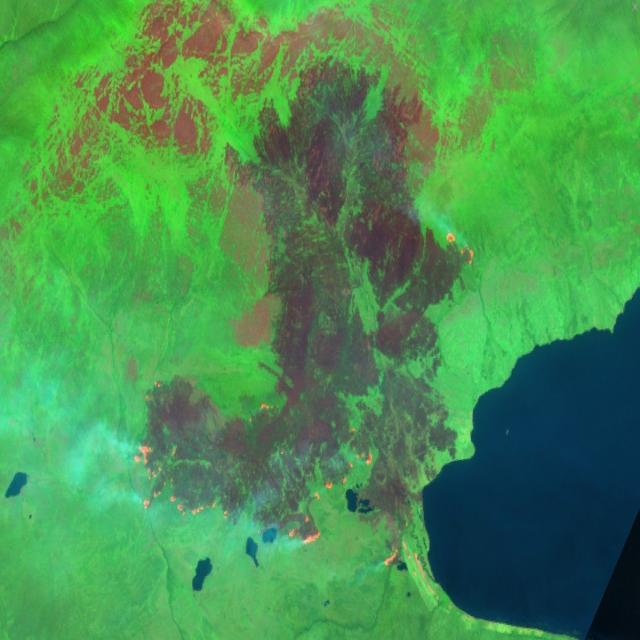fire: (127, 424, 404, 570), (440, 227, 481, 275)
